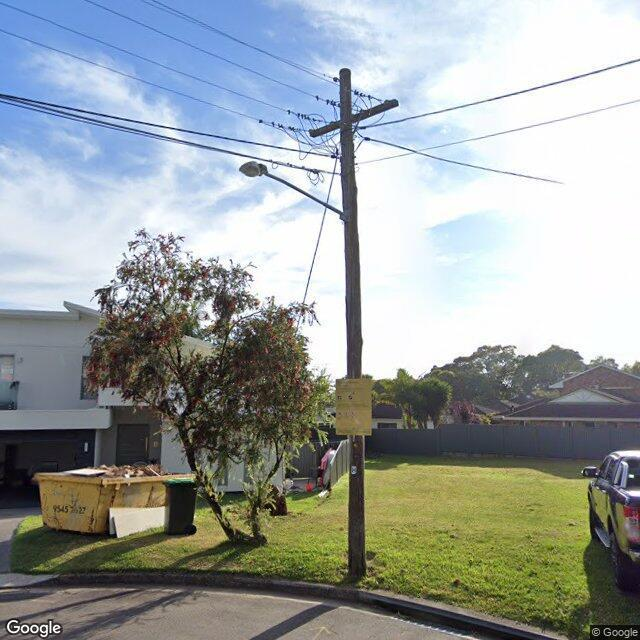crossarm: (309, 99, 399, 138)
streetlight: (239, 161, 344, 221)
timber-pole: (339, 68, 367, 578)
